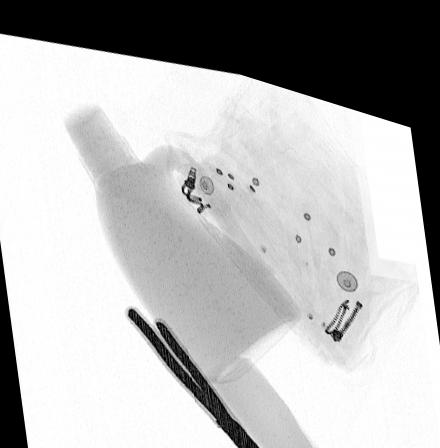Pliers: (125, 295, 275, 448)
